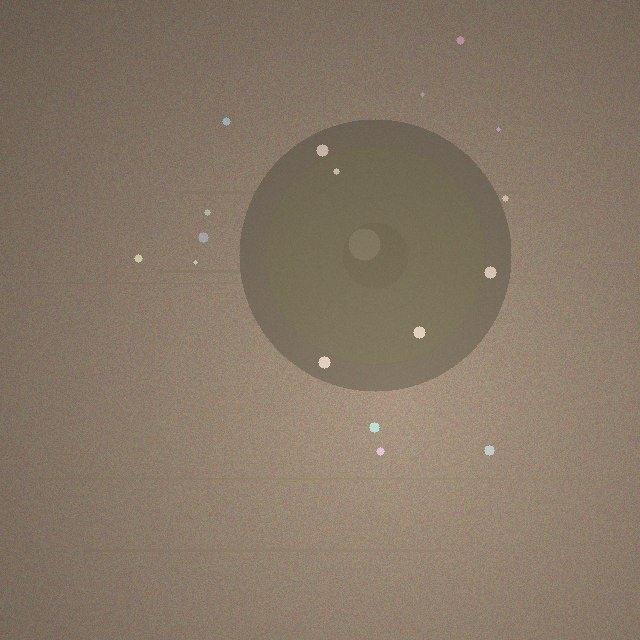overburn: (239, 119, 511, 391)
